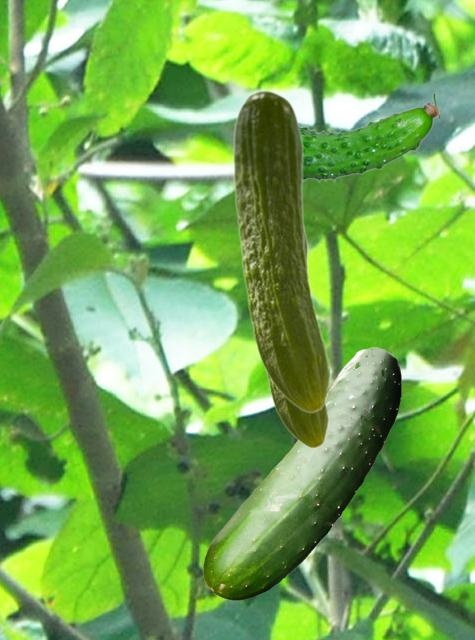cucumber: (203, 347, 400, 599), (232, 89, 330, 413), (263, 221, 328, 448), (301, 92, 438, 181)
